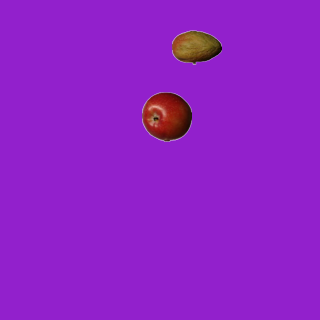Apple Braeburn: (141, 91, 191, 141)
Papaya: (171, 22, 221, 72)
